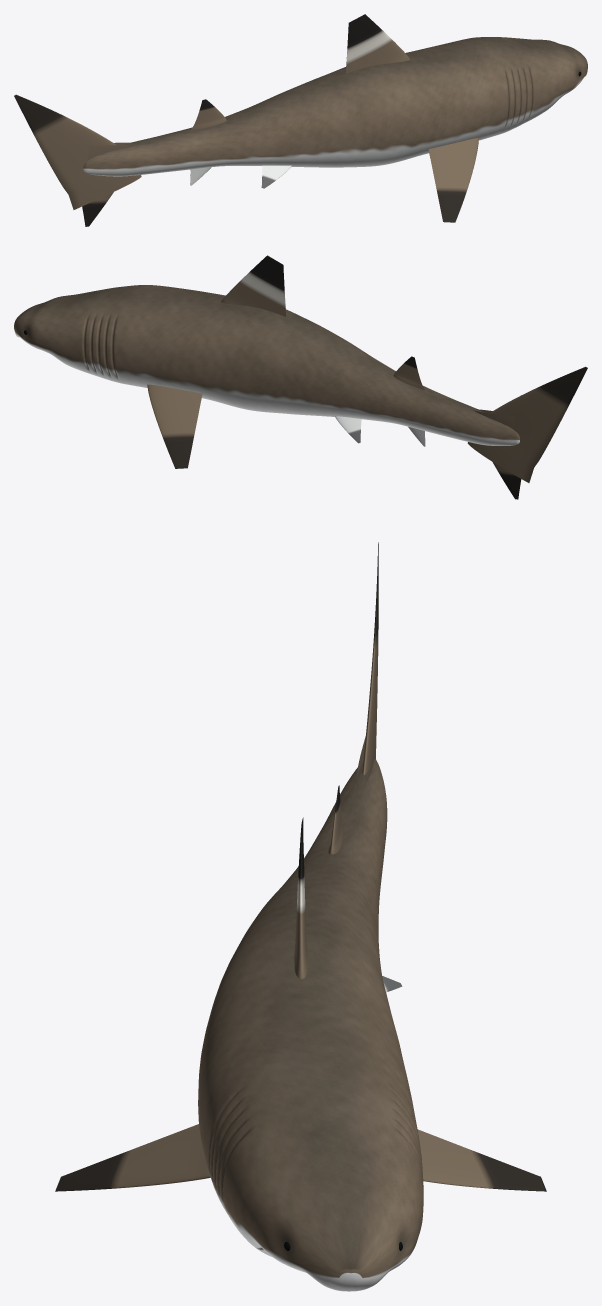
File: blacktip_reef_shark.glb
The picture shows the model from 3 angles, top to bottom: view 1: azimuth 30°, elevation 25°; view 2: azimuth 150°, elevation 25°; view 3: azimuth 270°, elevation 25°; orthographic projection. The views are drawn at different scales.
Parts seen in each view (by area): view 1: BlacktipReefShark_Body, BlacktipReefShark_Fins; view 2: BlacktipReefShark_Body, BlacktipReefShark_Fins; view 3: BlacktipReefShark_Body, BlacktipReefShark_Fins.
Part boxes in pixels (x1,y1,x2,y2): BlacktipReefShark_Body: [83, 37, 587, 176]; BlacktipReefShark_Fins: [14, 14, 478, 226]; BlacktipReefShark_Body: [14, 285, 519, 445]; BlacktipReefShark_Fins: [147, 255, 587, 499]; BlacktipReefShark_Body: [198, 758, 423, 1291]; BlacktipReefShark_Fins: [55, 542, 546, 1191].
Size of the model in its own units: 1.6 by 0.4618 by 0.6038.
Materials: 3 (1 with a texture image).
